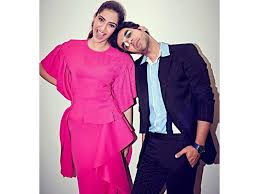Bad: (39, 1, 215, 194)
